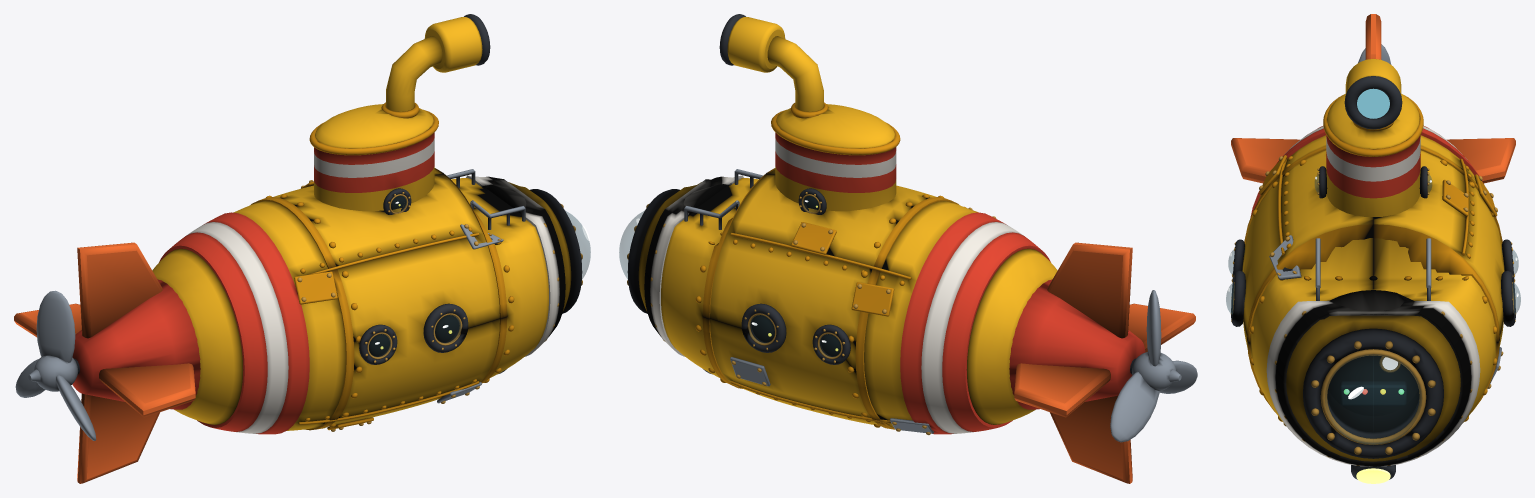
Rendered from player_hull_big.glb.
3 views of the same model, side by side, from view 1: azimuth 30°, elevation 25°; view 2: azimuth 150°, elevation 25°; view 3: azimuth 270°, elevation 25° (orthographic). The views are drawn at different scales.
Visible parts, largest first — view 1: hull_body.001, propeller.001; view 2: hull_body.001, propeller.001; view 3: hull_body.001.
Part boxes in pixels (box(x1,y1,x2,y2)): hull_body.001: box(14, 14, 590, 483); propeller.001: box(15, 290, 96, 440); hull_body.001: box(619, 14, 1195, 483); propeller.001: box(1110, 290, 1197, 442); hull_body.001: box(1226, 14, 1520, 483).
Bounding box in the file's own units: 5.35 × 3.41 × 2.24.
